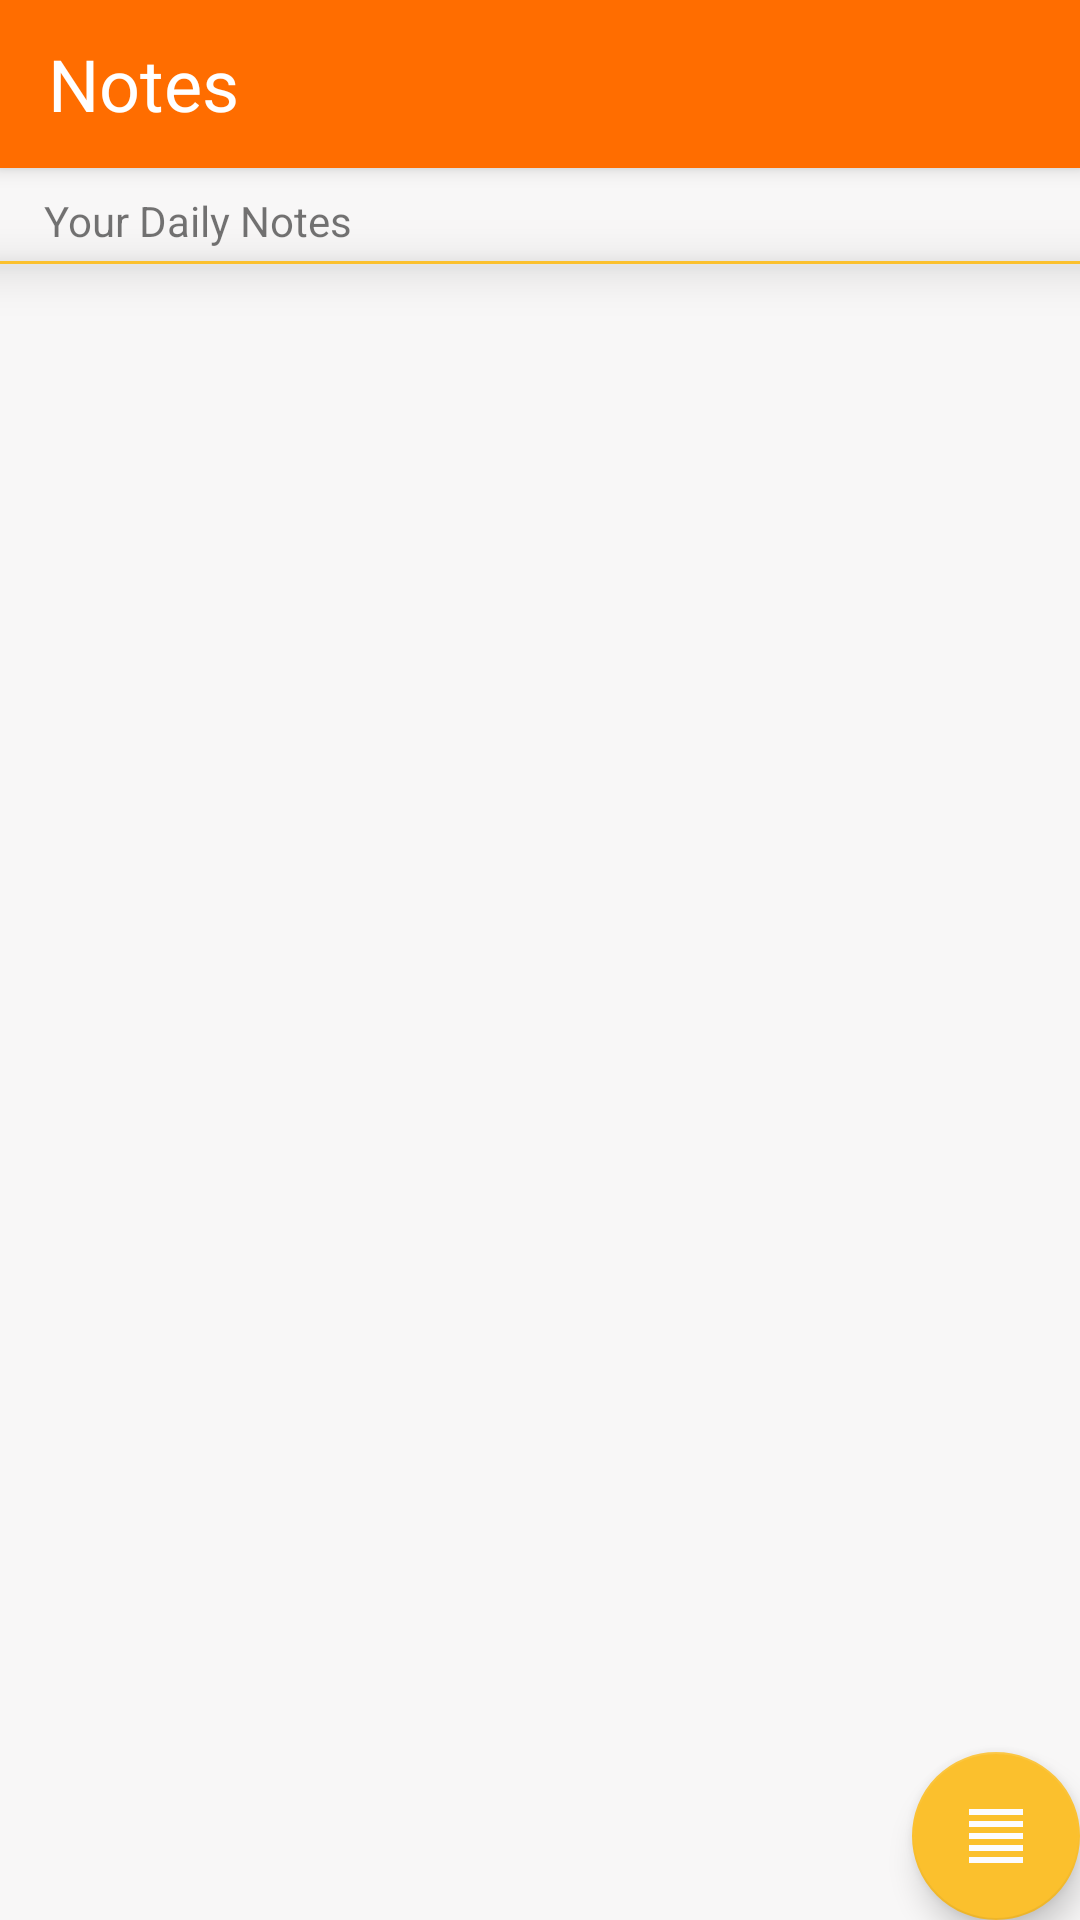

Named icons in this screenshot (1080×1920) and their centers, (x,y):
format align justify: (996,1836)
